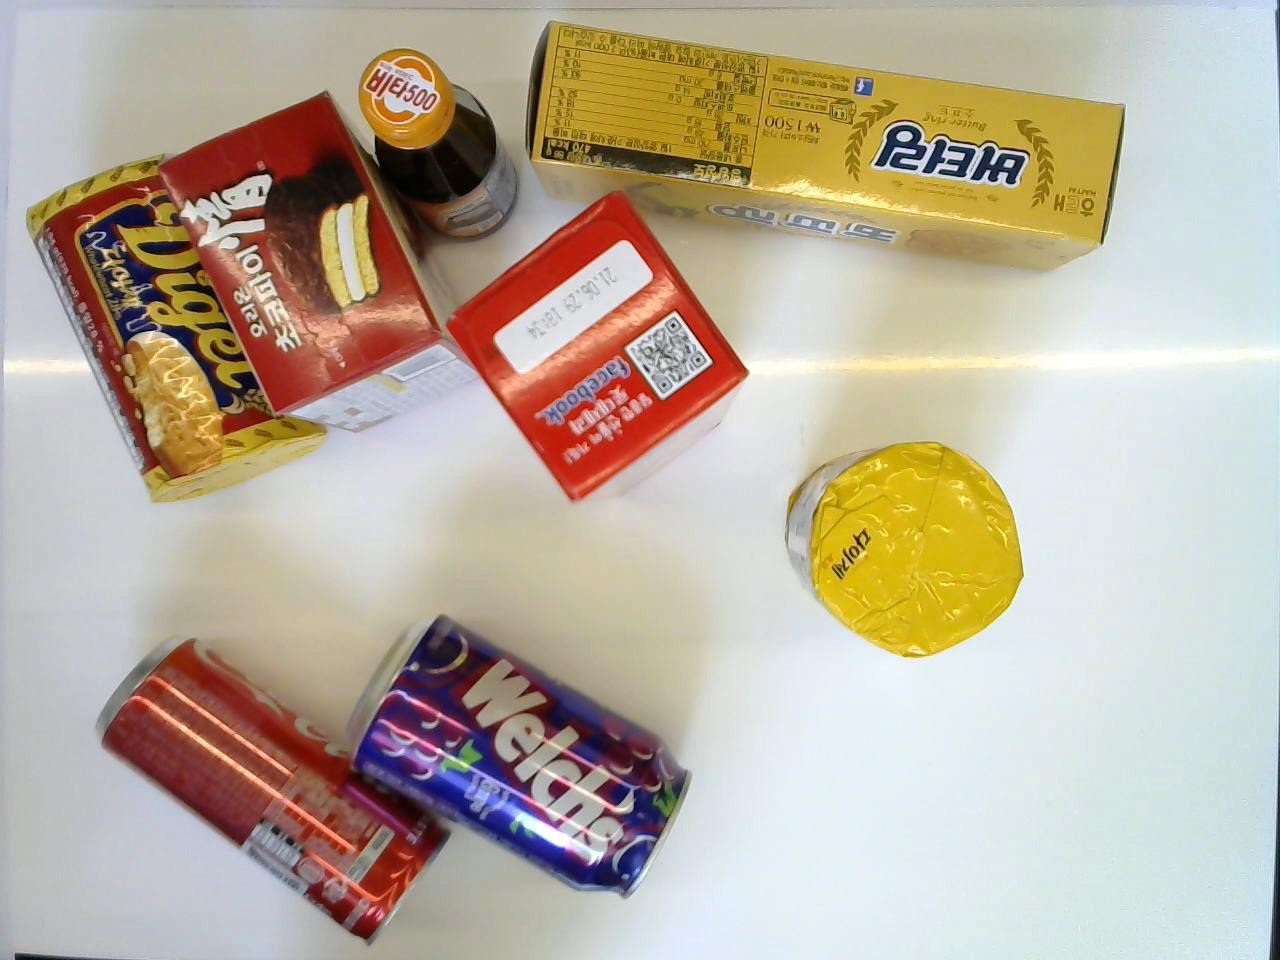buttering: (526, 18, 1129, 273)
chocopie: (165, 92, 470, 438)
coke: (83, 630, 454, 946)
diget_choco: (776, 440, 1028, 662)
diget_ori: (21, 157, 318, 504)
vita500: (358, 45, 521, 240)
welchs: (342, 610, 698, 899)
zec: (444, 192, 745, 507)
